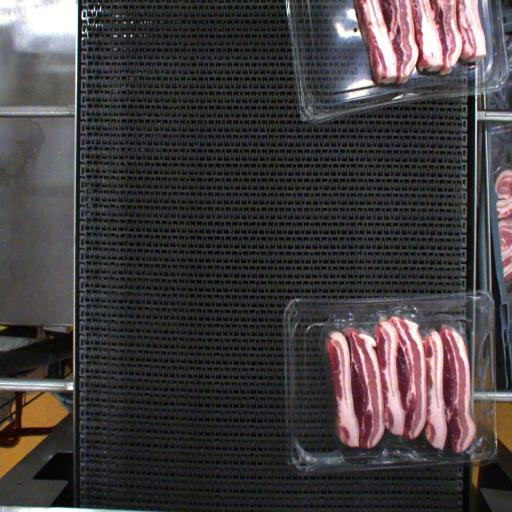unsealed: (311, 301, 498, 462)
